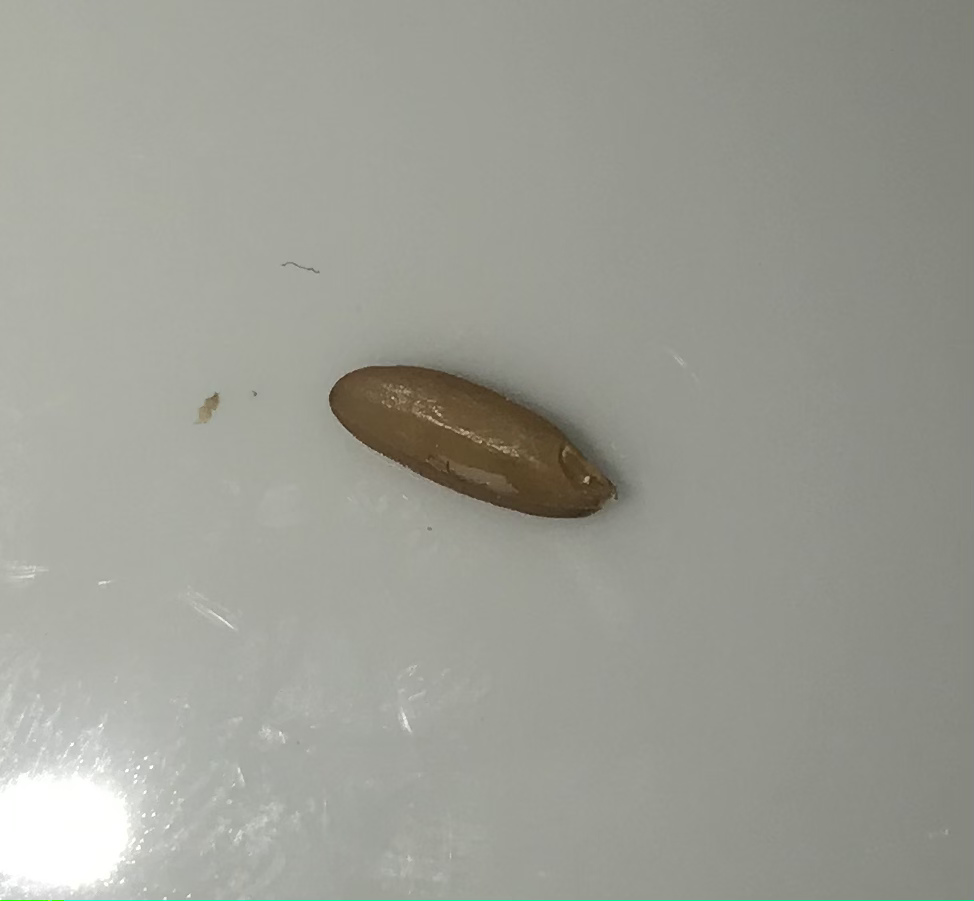Gao Lut Dien Bien: (314, 353, 624, 535)
